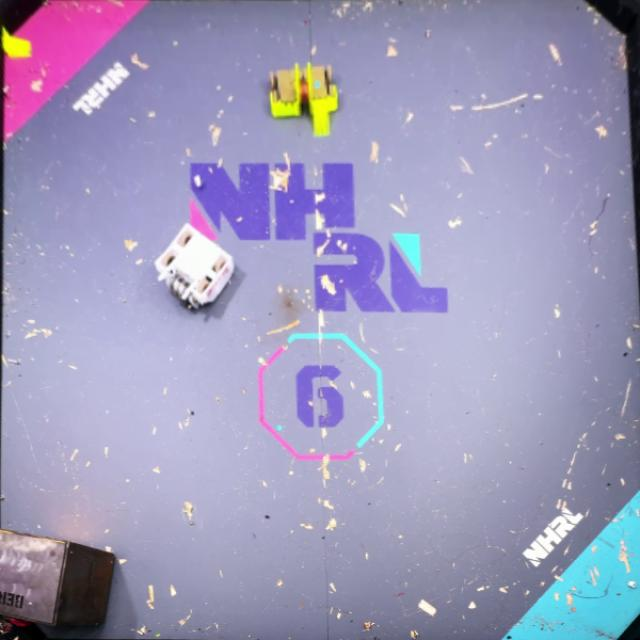housebot: (0, 527, 115, 632)
robot: (156, 225, 236, 311), (268, 61, 340, 139)
